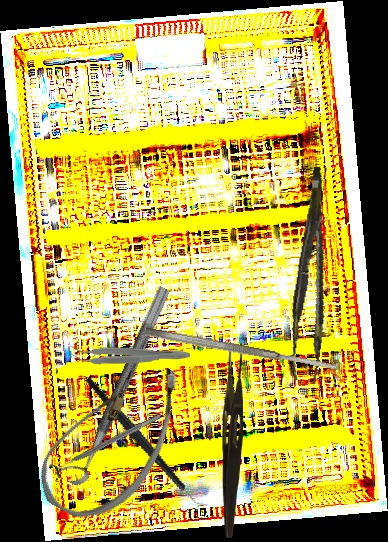Cannula: (26, 337, 198, 538)
Chopper: (83, 353, 212, 531)
Dressing Forceps: (222, 342, 243, 538)
Fixation Ring: (53, 278, 173, 489), (46, 407, 166, 482)
Spatula Surgical: (144, 325, 338, 374)
Tissue Forceps: (280, 166, 349, 385), (69, 342, 191, 366)
